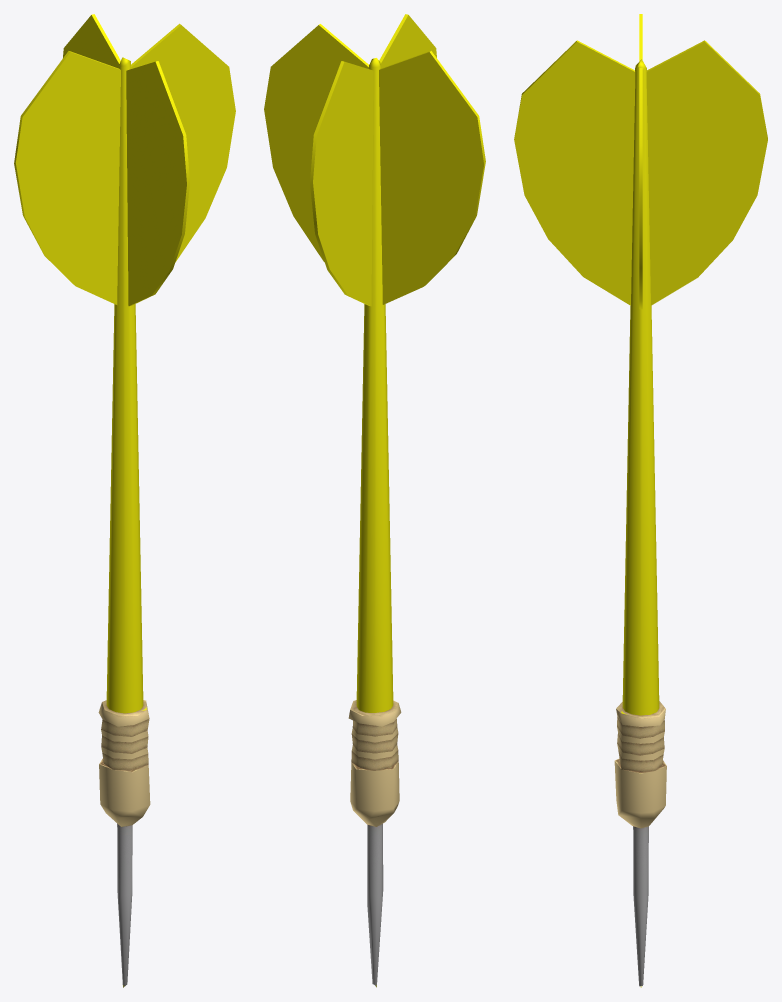
The model's file is dart_yellow.glb.
3 views of the same model, side by side, from view 1: azimuth 30°, elevation 25°; view 2: azimuth 150°, elevation 25°; view 3: azimuth 270°, elevation 25° (orthographic).
Visible parts, largest first — view 1: dart_yellow; view 2: dart_yellow; view 3: dart_yellow.
Part boxes in pixels (x1=…): dart_yellow: x1=14, y1=14, x2=235, y2=987; dart_yellow: x1=264, y1=14, x2=485, y2=987; dart_yellow: x1=514, y1=14, x2=767, y2=987.
Size of the model in its own units: 0.0343 by 0.1412 by 0.0343.
Materials: 1 (1 with a texture image).
